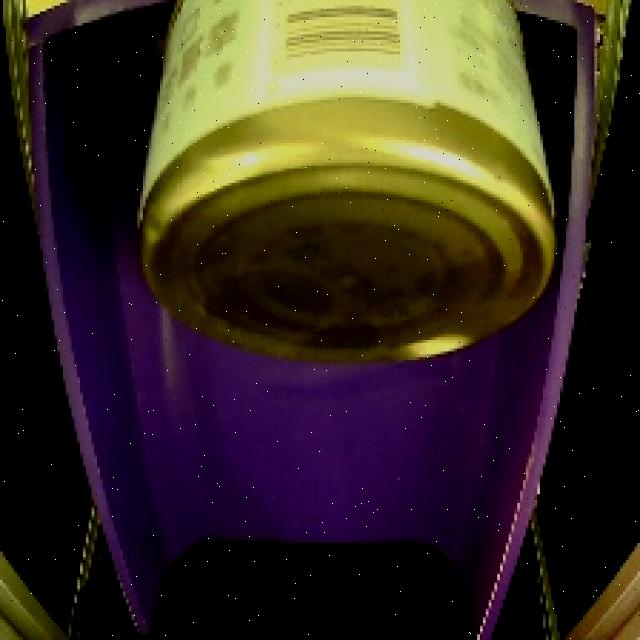metal: (128, 0, 573, 377)
